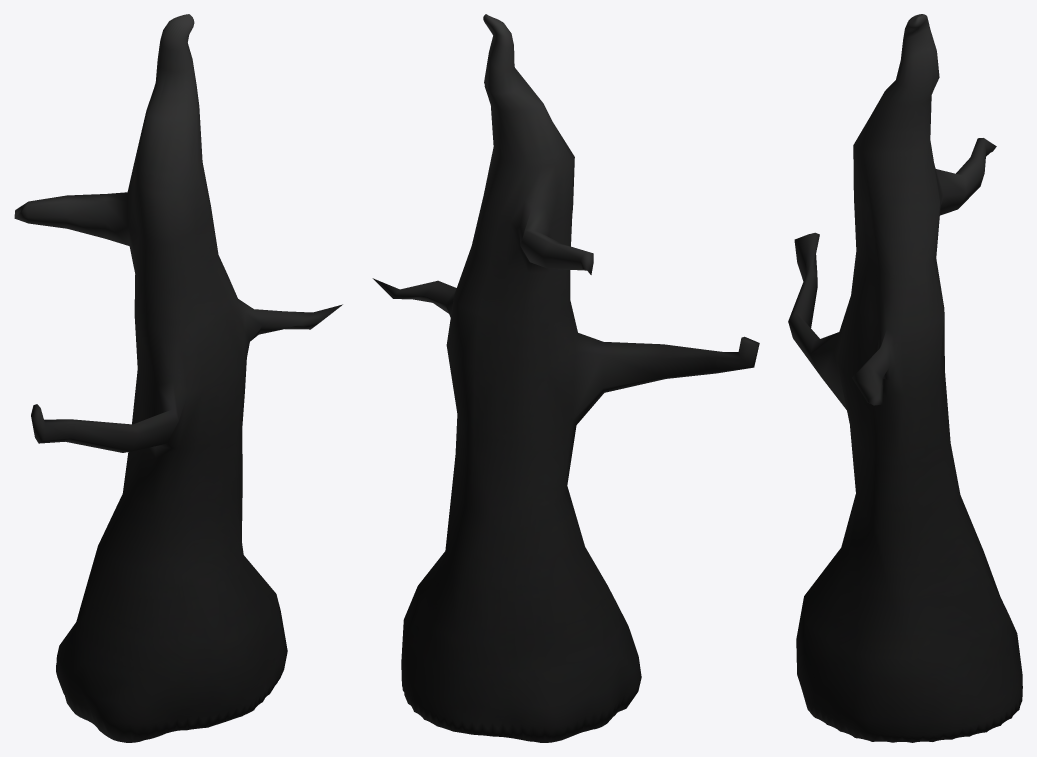
File: deadTree3.fbx
The picture shows the model from 3 angles, left to right: view 1: azimuth 30°, elevation 25°; view 2: azimuth 150°, elevation 25°; view 3: azimuth 270°, elevation 25°; orthographic projection. The views are drawn at different scales.
Visible parts, largest first — view 1: Cylinder; view 2: Cylinder; view 3: Cylinder.
Boxes of the visible parts, left/top/right/bottom form: Cylinder: left=14, top=14, right=342, bottom=742; Cylinder: left=372, top=14, right=759, bottom=742; Cylinder: left=788, top=14, right=1022, bottom=742.
Size of the model in its own units: 175 by 98.83 by 328.
